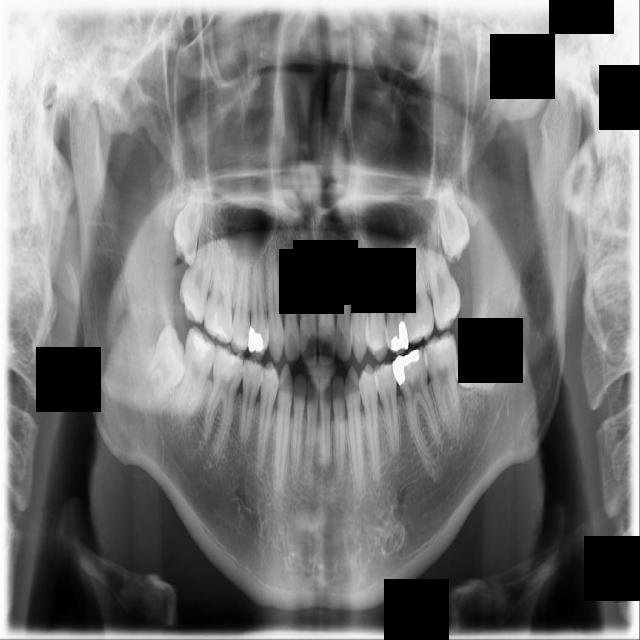3M ESPE Implant: (168, 179, 209, 266)
52: (387, 344, 440, 399), (179, 324, 220, 379), (423, 329, 458, 381), (203, 289, 233, 345), (211, 344, 246, 392), (432, 280, 462, 333), (402, 298, 435, 344), (383, 309, 410, 357), (246, 314, 272, 363)
73: (617, 563, 630, 587)
BioHorizons Implant: (418, 207, 466, 333)
BioLife Implant: (434, 175, 474, 266)
Biomet 3i Implant: (449, 322, 511, 395)
Blue Sky Bio Implant: (422, 329, 464, 439)
Caries: (175, 186, 227, 325)
Implant: (175, 324, 219, 423)
Keystone Dental Implant: (137, 321, 200, 406)
